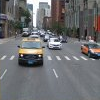crosswalk: (0, 54, 95, 60)
